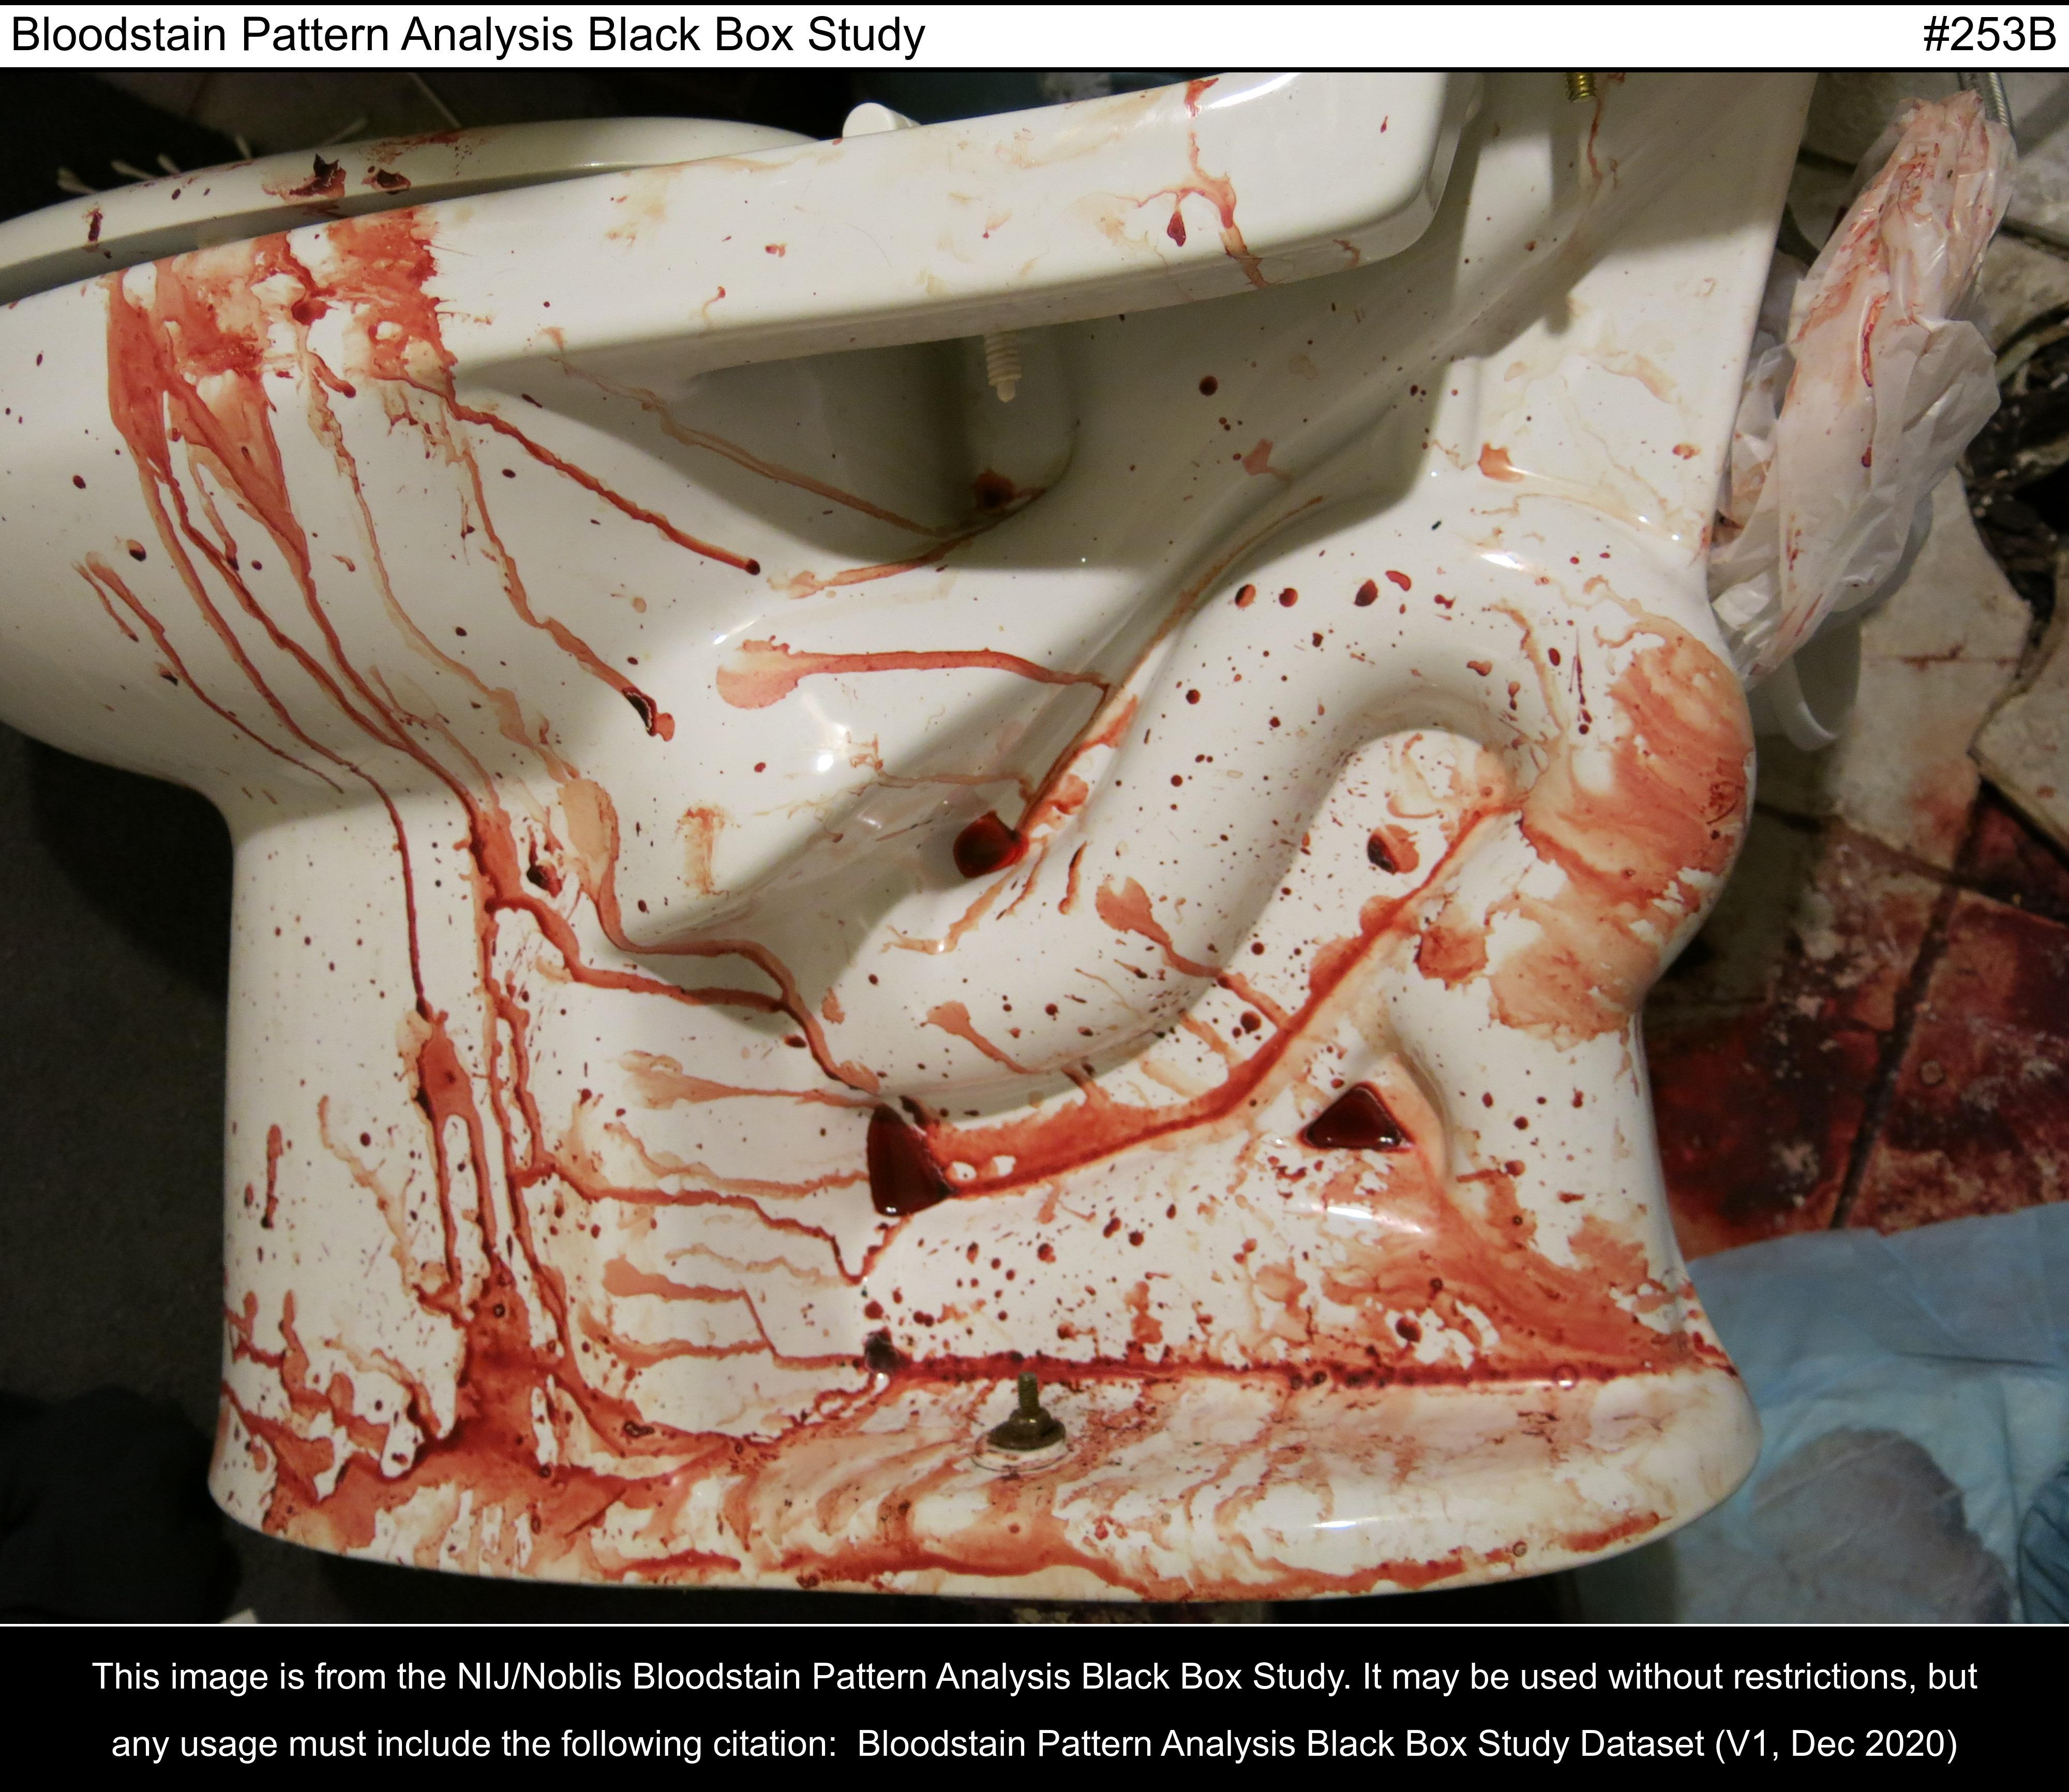Passive: (227, 176, 1712, 1541)
